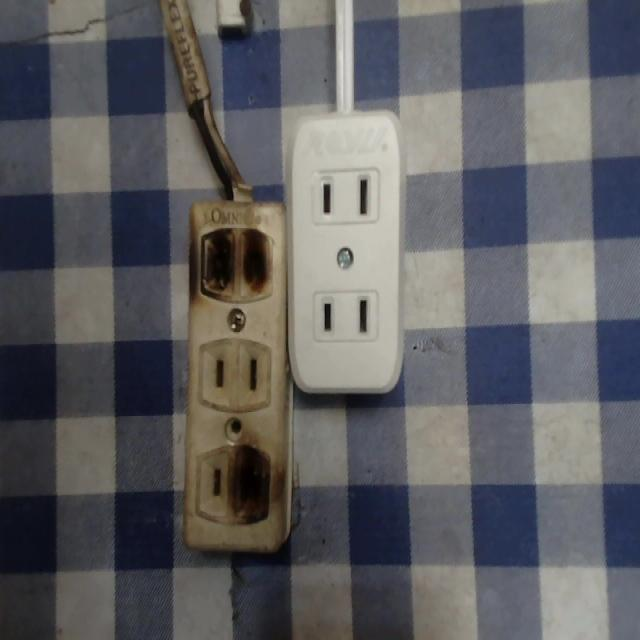-: (185, 216, 279, 316), (231, 444, 278, 524)
